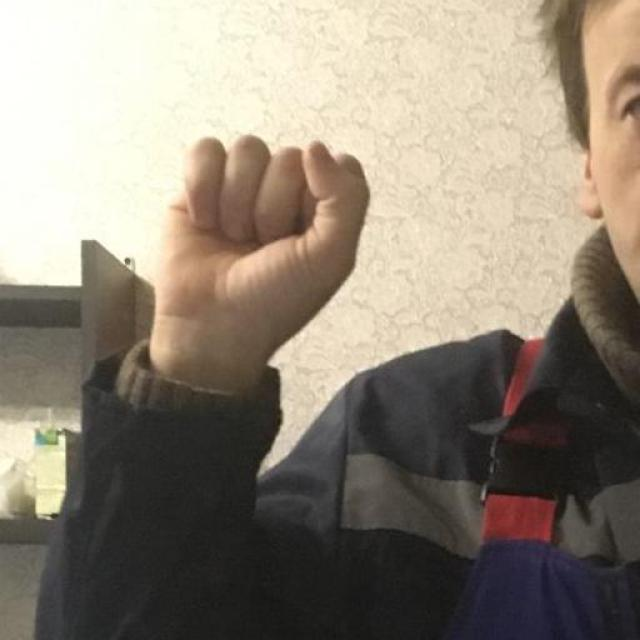hand: (148, 131, 372, 395)
